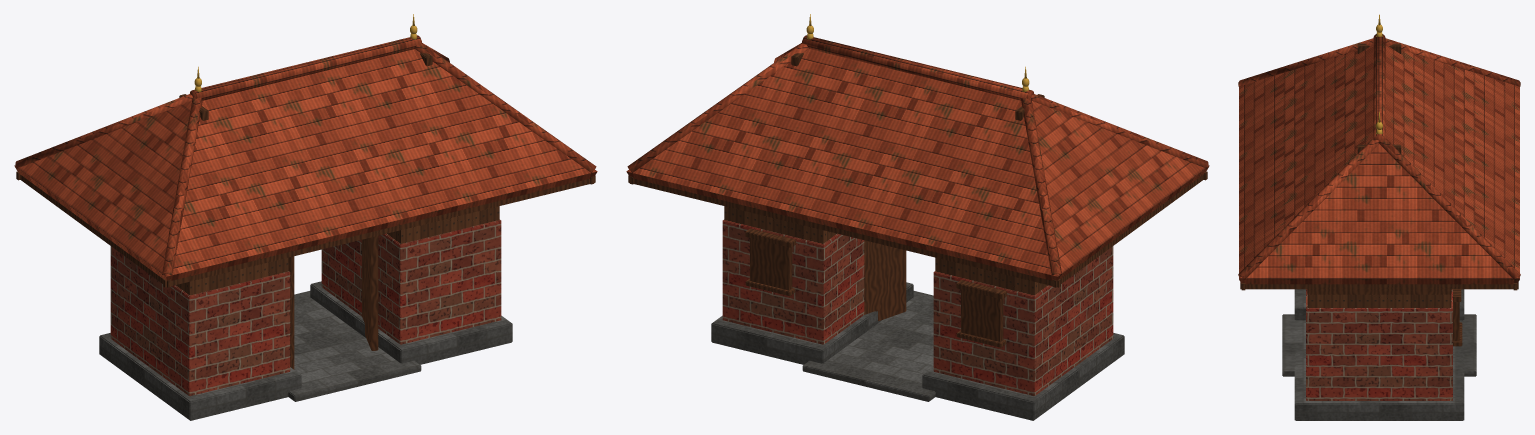
Rendered from mana_padippura.glb.
The picture shows the model from 3 angles, left to right: view 1: azimuth 30°, elevation 25°; view 2: azimuth 150°, elevation 25°; view 3: azimuth 270°, elevation 25°; orthographic projection. The views are drawn at different scales.
Parts seen in each view (by area): view 1: mana_padippura; view 2: mana_padippura; view 3: mana_padippura.
Boxes of the visible parts, x1,y1,x2,y2 form: mana_padippura: [14, 14, 597, 420]; mana_padippura: [626, 14, 1209, 420]; mana_padippura: [1238, 14, 1520, 420].
Bounding box in the file's own units: 10.27 × 6.98 × 6.26.
6 materials, 6 textured.
